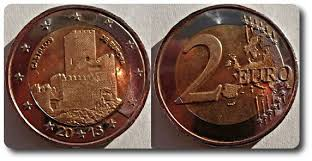eur002: (7, 6, 152, 150), (155, 5, 299, 148)
